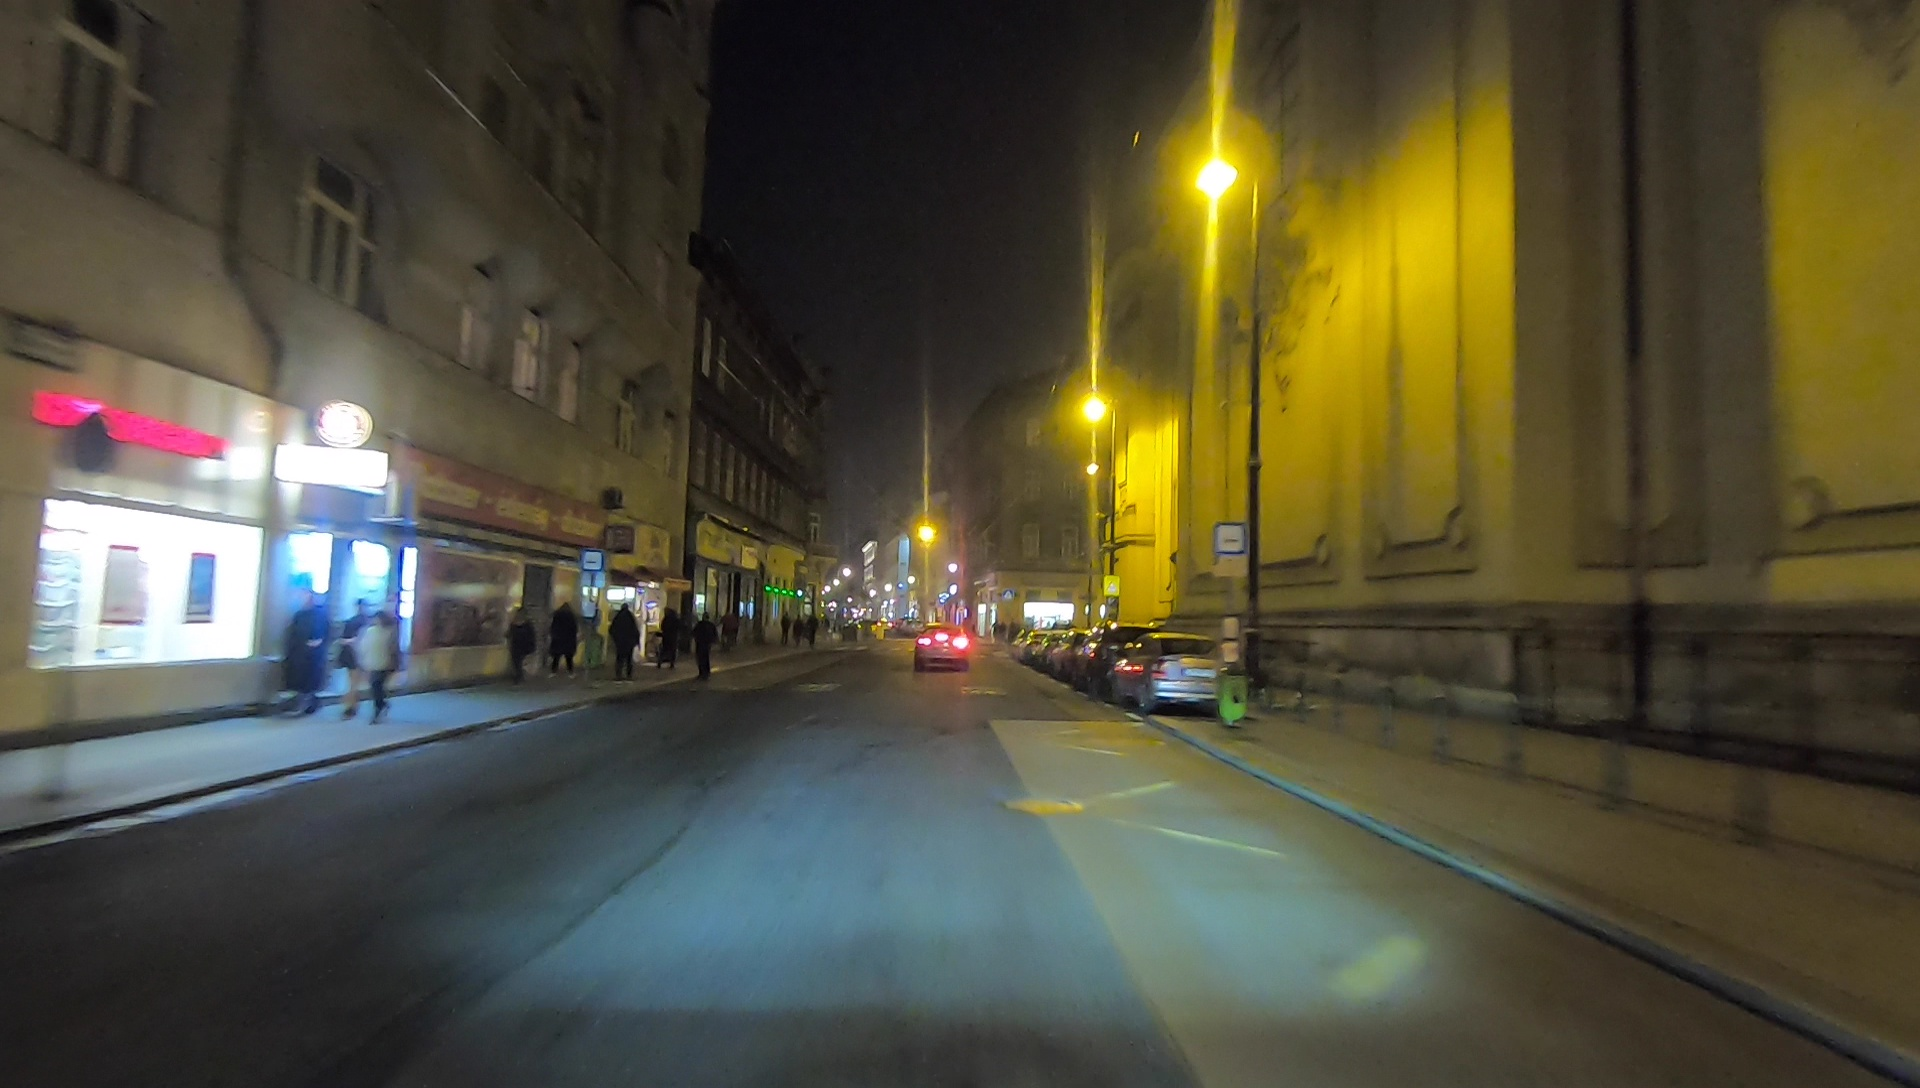person: (289, 589, 329, 714), (364, 610, 399, 726), (339, 596, 367, 715), (610, 601, 640, 681), (549, 602, 576, 678), (510, 603, 532, 679), (694, 609, 715, 680), (658, 603, 681, 668), (720, 609, 733, 649), (805, 614, 815, 644), (781, 610, 790, 643), (794, 613, 803, 645)
